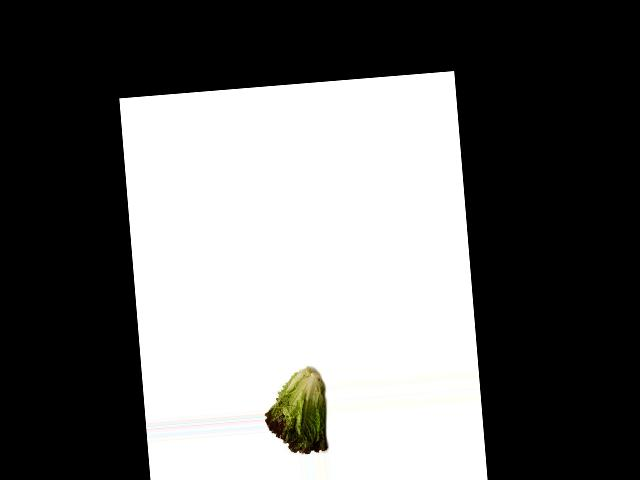lettuce: (262, 367, 328, 458)
